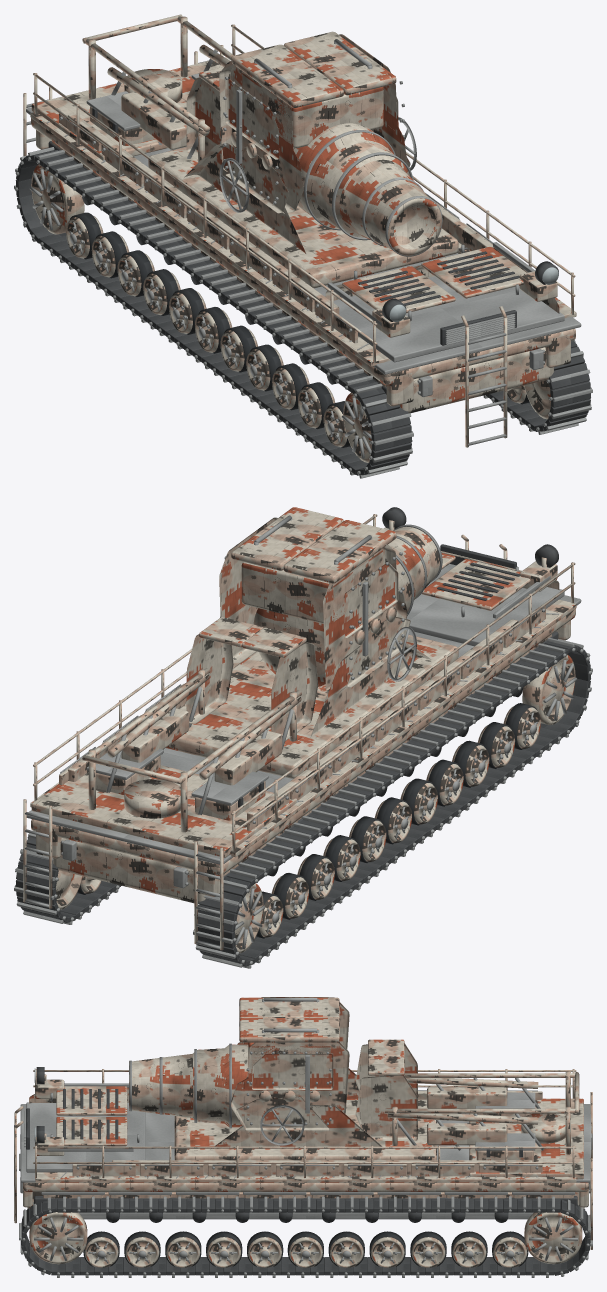
The model's file is pgf-claude.glb.
3 renders of one model, top to bottom at view 1: azimuth 30°, elevation 25°; view 2: azimuth 150°, elevation 25°; view 3: azimuth 270°, elevation 25°, orthographic. The views are drawn at different scales.
Visible parts, largest first — view 1: cradle-graphite-painted-steel-batch, running-gear-panel-shadow-batch, chassis-graphite-painted-steel-batch, platform-graphite-painted-steel-batch, running-gear-cast-edge-steel-batch, carriage-graphite-painted-steel-batch, barrel-tube-exterior-batch, running-gear-graphite-painted-steel-batch, engine-cast-edge-steel-batch, mechanisms-graphite-painted-steel-batch, engine-graphite-painted-steel-batch, running-gear-dark-running-bands-batch (+6 smaller); view 2: platform-graphite-painted-steel-batch, cradle-graphite-painted-steel-batch, running-gear-panel-shadow-batch, chassis-graphite-painted-steel-batch, mechanisms-graphite-painted-steel-batch, carriage-graphite-painted-steel-batch, running-gear-cast-edge-steel-batch, running-gear-graphite-painted-steel-batch, running-gear-dark-running-bands-batch, chassis-cast-edge-steel-batch, engine-cast-edge-steel-batch, barrel-tube-exterior-batch (+6 smaller); view 3: running-gear-panel-shadow-batch, chassis-graphite-painted-steel-batch, mechanisms-graphite-painted-steel-batch, platform-graphite-painted-steel-batch, cradle-graphite-painted-steel-batch, running-gear-graphite-painted-steel-batch, carriage-graphite-painted-steel-batch, chassis-cast-edge-steel-batch, barrel-tube-exterior-batch, running-gear-cast-edge-steel-batch, engine-graphite-painted-steel-batch, engine-cast-edge-steel-batch (+7 smaller).
Part boxes in pixels (x1,y1,x2,y2): cradle-graphite-painted-steel-batch: (219, 31, 410, 213); running-gear-panel-shadow-batch: (15, 150, 590, 475); chassis-graphite-painted-steel-batch: (31, 112, 575, 413); platform-graphite-painted-steel-batch: (23, 24, 576, 366); running-gear-cast-edge-steel-batch: (14, 147, 592, 478); carriage-graphite-painted-steel-batch: (148, 143, 458, 288); barrel-tube-exterior-batch: (293, 123, 441, 255); running-gear-graphite-painted-steel-batch: (31, 164, 550, 462); engine-cast-edge-steel-batch: (327, 242, 564, 445); mechanisms-graphite-painted-steel-batch: (82, 14, 233, 162); engine-graphite-painted-steel-batch: (325, 246, 559, 447); running-gear-dark-running-bands-batch: (70, 212, 529, 447); platform-graphite-painted-steel-batch: (23, 514, 576, 950); cradle-graphite-painted-steel-batch: (219, 507, 410, 693); running-gear-panel-shadow-batch: (16, 641, 590, 966); chassis-graphite-painted-steel-batch: (31, 604, 575, 904); mechanisms-graphite-painted-steel-batch: (82, 617, 318, 832); carriage-graphite-painted-steel-batch: (166, 634, 458, 778); running-gear-cast-edge-steel-batch: (14, 637, 592, 968); running-gear-graphite-painted-steel-batch: (56, 655, 575, 953); running-gear-dark-running-bands-batch: (77, 703, 537, 938); chassis-cast-edge-steel-batch: (26, 595, 581, 888); engine-cast-edge-steel-batch: (406, 564, 564, 646); barrel-tube-exterior-batch: (253, 526, 439, 686); running-gear-panel-shadow-batch: (21, 1198, 590, 1275); chassis-graphite-painted-steel-batch: (23, 1091, 588, 1208); mechanisms-graphite-painted-steel-batch: (355, 1039, 579, 1154); platform-graphite-painted-steel-batch: (33, 1069, 592, 1249); cradle-graphite-painted-steel-batch: (231, 997, 349, 1130); running-gear-graphite-painted-steel-batch: (29, 1212, 582, 1267); carriage-graphite-painted-steel-batch: (174, 1068, 436, 1160); chassis-cast-edge-steel-batch: (20, 1090, 592, 1219); barrel-tube-exterior-batch: (129, 1044, 248, 1127); running-gear-cast-edge-steel-batch: (19, 1153, 592, 1277); engine-graphite-painted-steel-batch: (14, 1074, 128, 1223); engine-cast-edge-steel-batch: (14, 1083, 145, 1220).
Bounding box in the file's own units: 3.69 × 4.49 × 10.6.
Materials: 6 (6 with a texture image).
